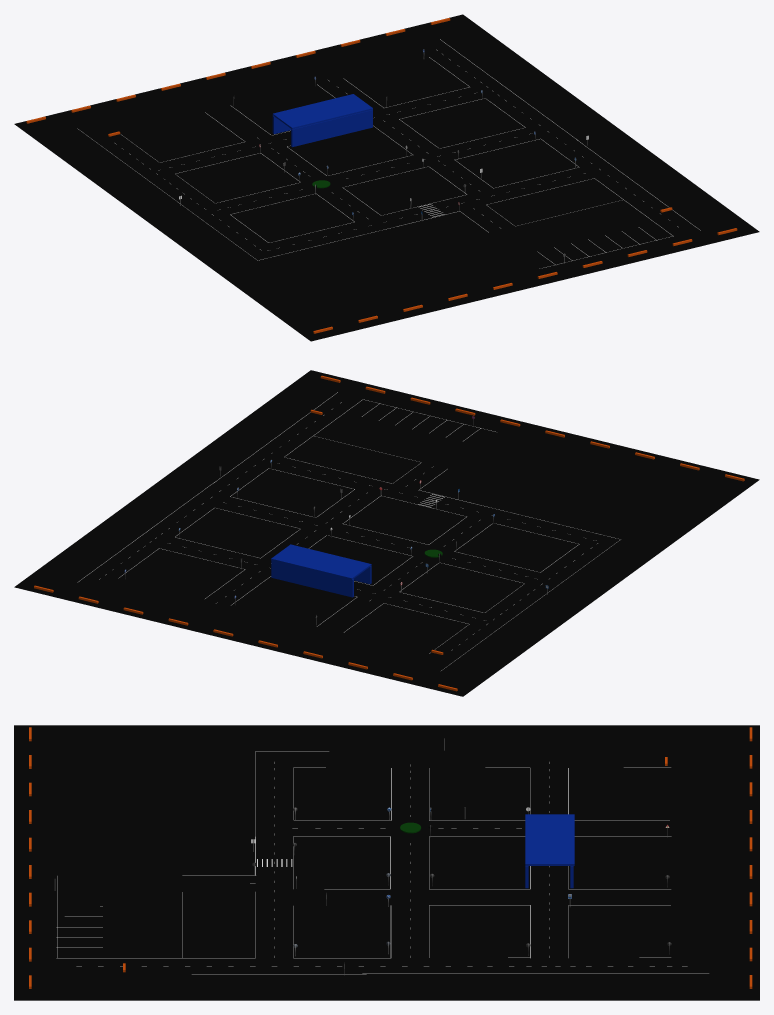
The model's file is RobotaksiMap.obj.
3 views of the same model, one above another, from view 1: azimuth 30°, elevation 25°; view 2: azimuth 150°, elevation 25°; view 3: azimuth 270°, elevation 25° (orthographic). The views are drawn at different scales.
Visible parts, largest first — view 1: Plane, Cube_002, Cube_001; view 2: Plane, Cube_002, Cube.001; view 3: Plane, Cube_002.
Boxes of the visible parts, left/top/right/bottom form: Plane: left=14, top=14, right=759, bottom=341; Cube_002: left=272, top=94, right=372, bottom=129; Cube_001: left=291, top=110, right=372, bottom=147; Plane: left=14, top=370, right=759, bottom=696; Cube_002: left=271, top=544, right=371, bottom=579; Cube.001: left=271, top=560, right=353, bottom=597; Plane: left=14, top=725, right=759, bottom=1000; Cube_002: left=525, top=814, right=574, bottom=865.
Bounding box in the file's own units: 120 × 5.21 × 137.
